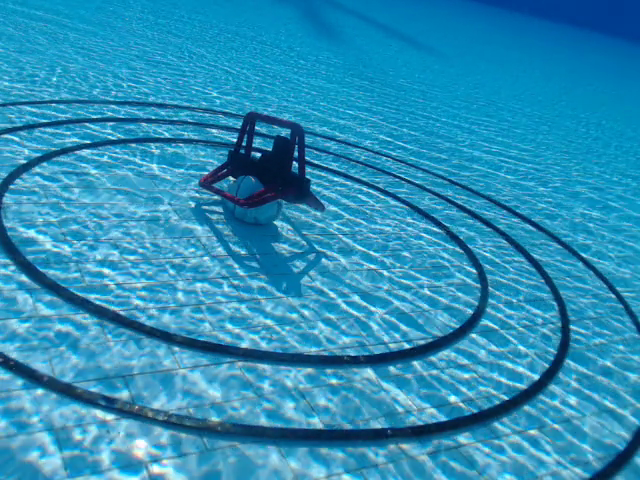submarine: (197, 110, 328, 217)
